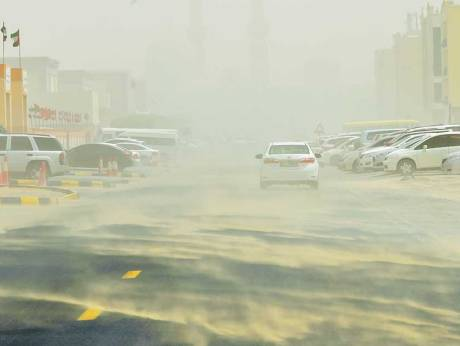car: (1, 130, 72, 180), (258, 140, 320, 187), (99, 122, 176, 159), (384, 135, 459, 172), (64, 143, 133, 171), (373, 133, 420, 171), (339, 138, 382, 170), (320, 136, 356, 167), (117, 139, 162, 162), (362, 132, 386, 170)
